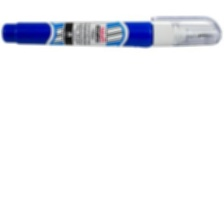correction_fluid: (0, 14, 222, 49)
